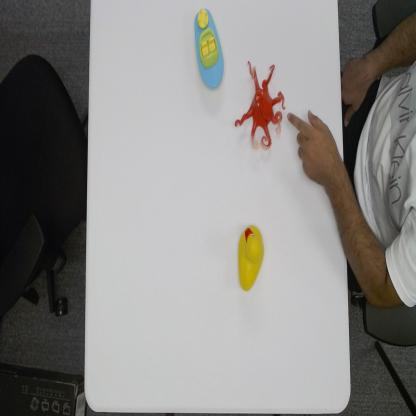Boat: (193, 5, 225, 91)
Duck: (237, 223, 265, 293)
Hand: (287, 107, 337, 190)
Octopus: (233, 58, 286, 150)
